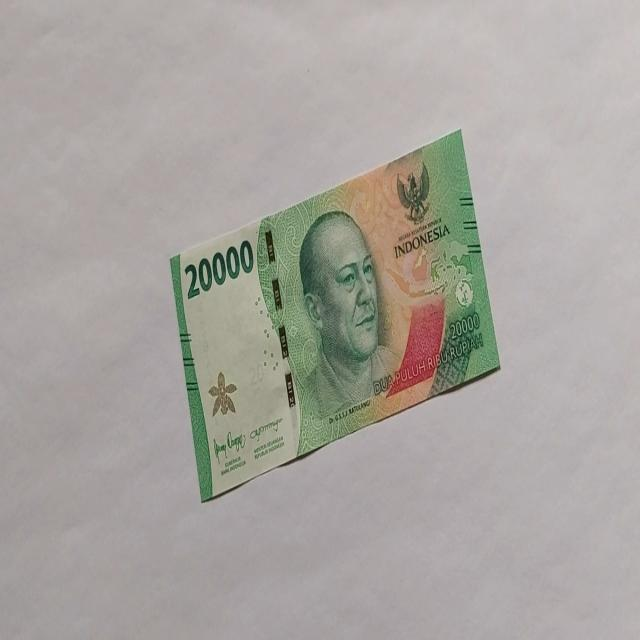dua puluh ribu rupiah: (168, 126, 502, 502), (296, 208, 402, 426)
